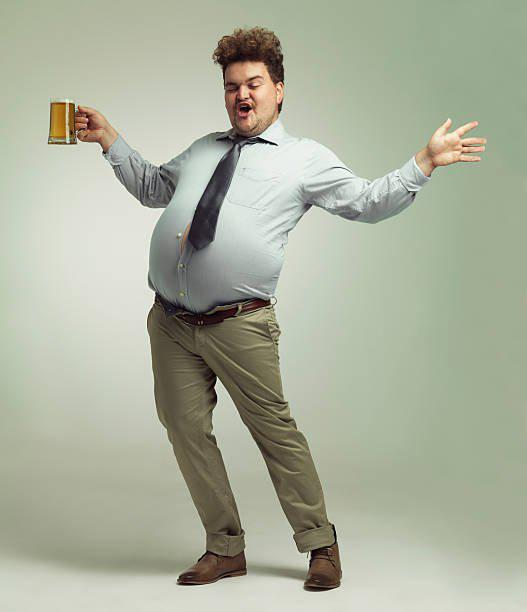Drunk: (219, 60, 277, 131)
